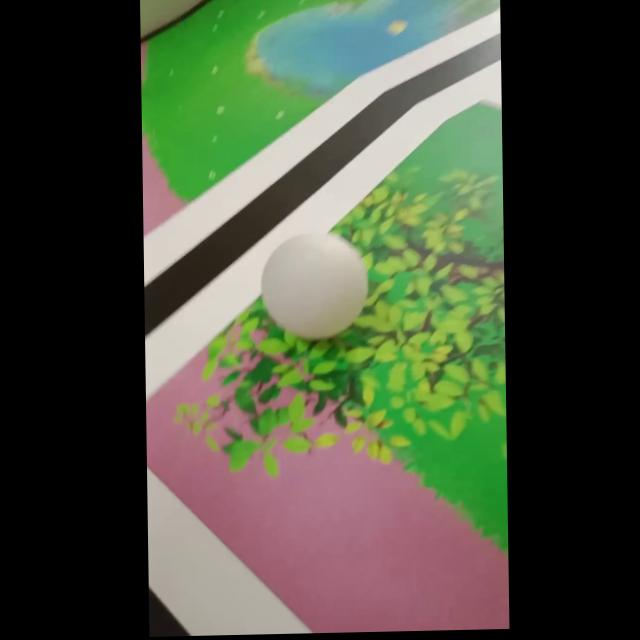white ball: (259, 229, 370, 341)
